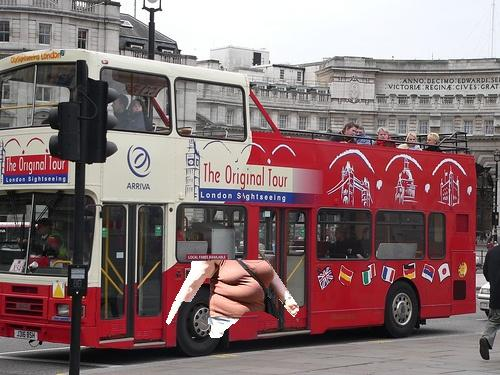tampered: (167, 261, 299, 338)
